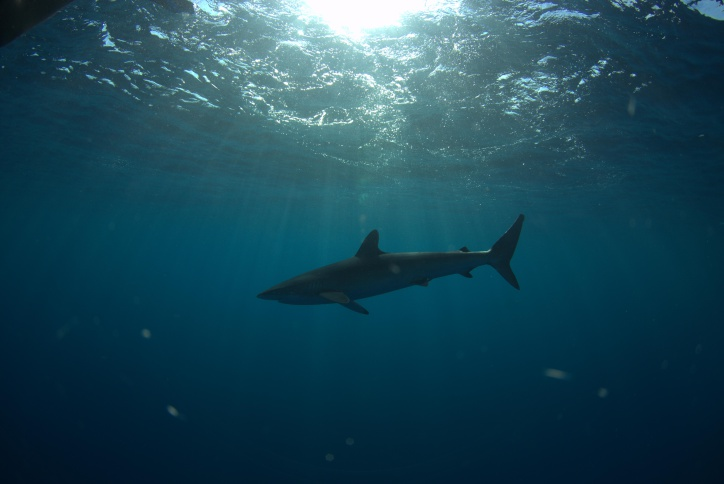Sedoso: (251, 210, 537, 319)
